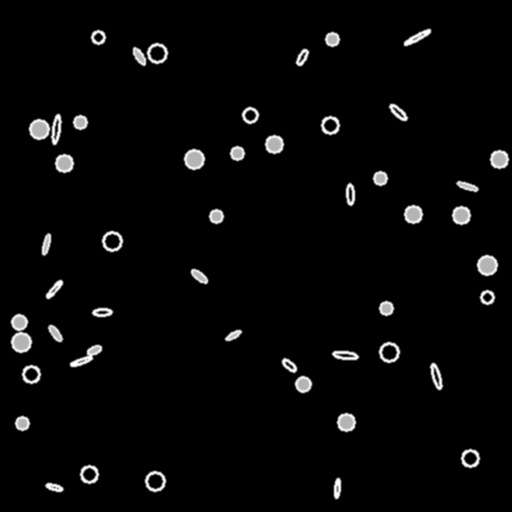pseudomonas: (403, 28, 431, 46), (388, 102, 408, 122), (45, 279, 63, 299), (131, 46, 147, 66), (430, 363, 442, 389), (47, 324, 63, 342), (190, 268, 208, 284), (51, 115, 61, 143), (70, 355, 92, 367), (281, 357, 297, 373), (295, 48, 309, 66), (333, 350, 357, 360), (41, 234, 51, 254), (457, 181, 477, 191), (86, 344, 102, 356), (225, 329, 241, 341), (346, 184, 354, 204), (92, 308, 112, 316), (46, 483, 62, 491), (334, 479, 340, 497)
synechocystis: (103, 232, 121, 250), (148, 44, 166, 62), (30, 120, 48, 138), (146, 472, 164, 490), (12, 333, 30, 351), (380, 343, 398, 361), (185, 150, 203, 168), (478, 256, 496, 274), (322, 117, 338, 133), (81, 466, 97, 482), (56, 155, 72, 171), (23, 366, 39, 382), (266, 136, 282, 152), (462, 450, 478, 466), (491, 151, 507, 167), (405, 206, 421, 222), (338, 414, 354, 430), (453, 207, 469, 223), (12, 315, 26, 329), (296, 377, 310, 391), (243, 108, 257, 122), (92, 31, 104, 43), (74, 116, 86, 128), (326, 33, 338, 45), (231, 147, 243, 159), (16, 417, 28, 429), (481, 291, 493, 303), (210, 210, 222, 222), (374, 172, 386, 184), (380, 302, 392, 314)
